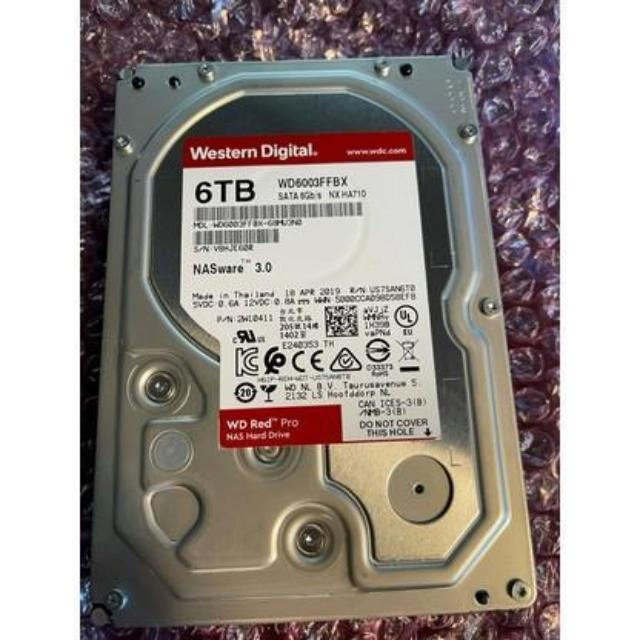DISK: (84, 46, 536, 631)
